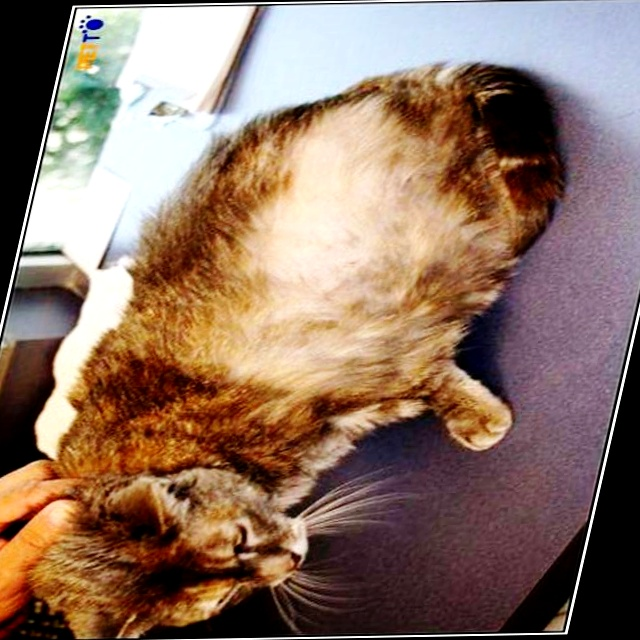hairloss: (244, 112, 393, 301)
